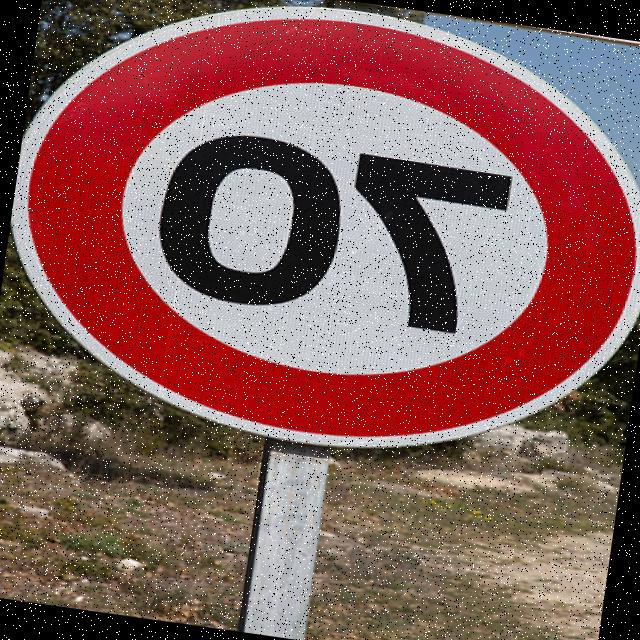speed_limit_70: (0, 0, 640, 487)
